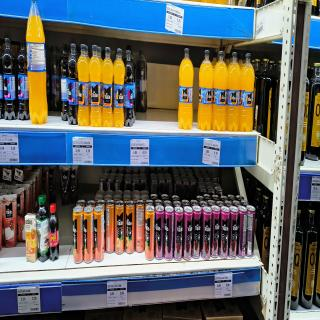Juice: (26, 6, 50, 121), (173, 40, 197, 140), (75, 42, 91, 123), (214, 41, 228, 133), (200, 39, 213, 138), (2, 192, 18, 250)
